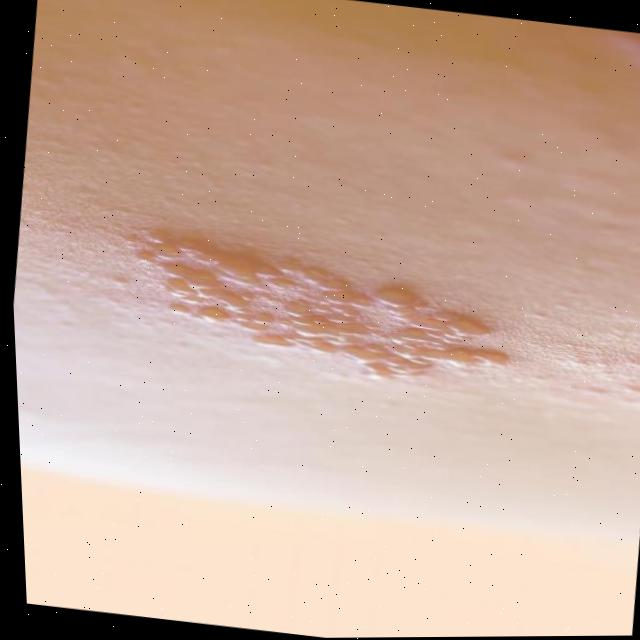Shingles: (128, 240, 502, 400)
